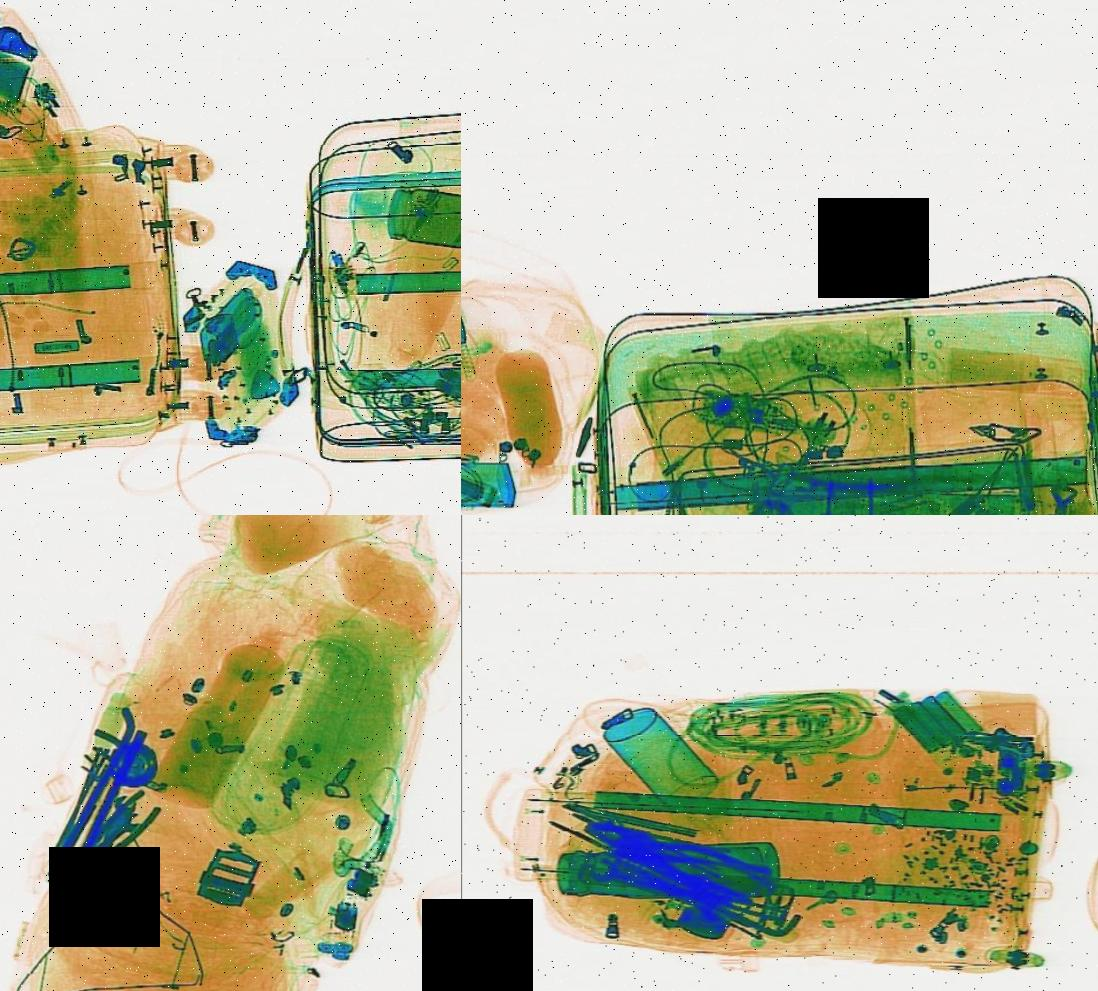Pliers: (568, 805, 775, 907)
Wrench: (66, 789, 140, 905), (582, 852, 699, 910)
